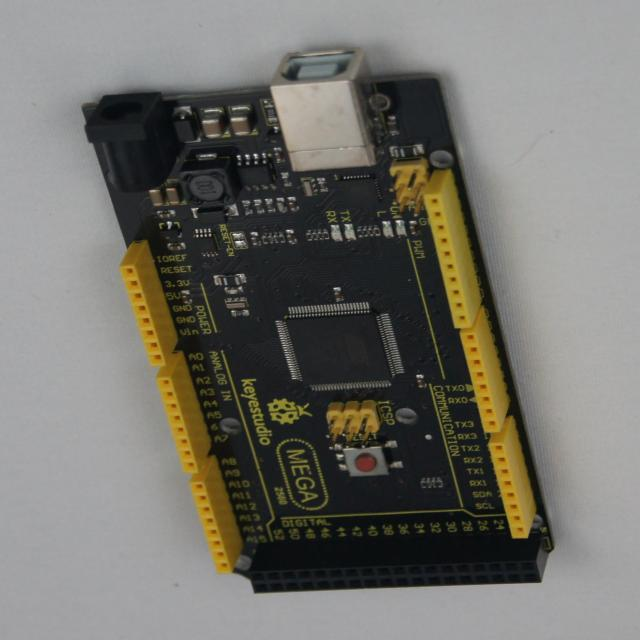Arduino Mega 2560 -Yellow-: (84, 48, 554, 593)
